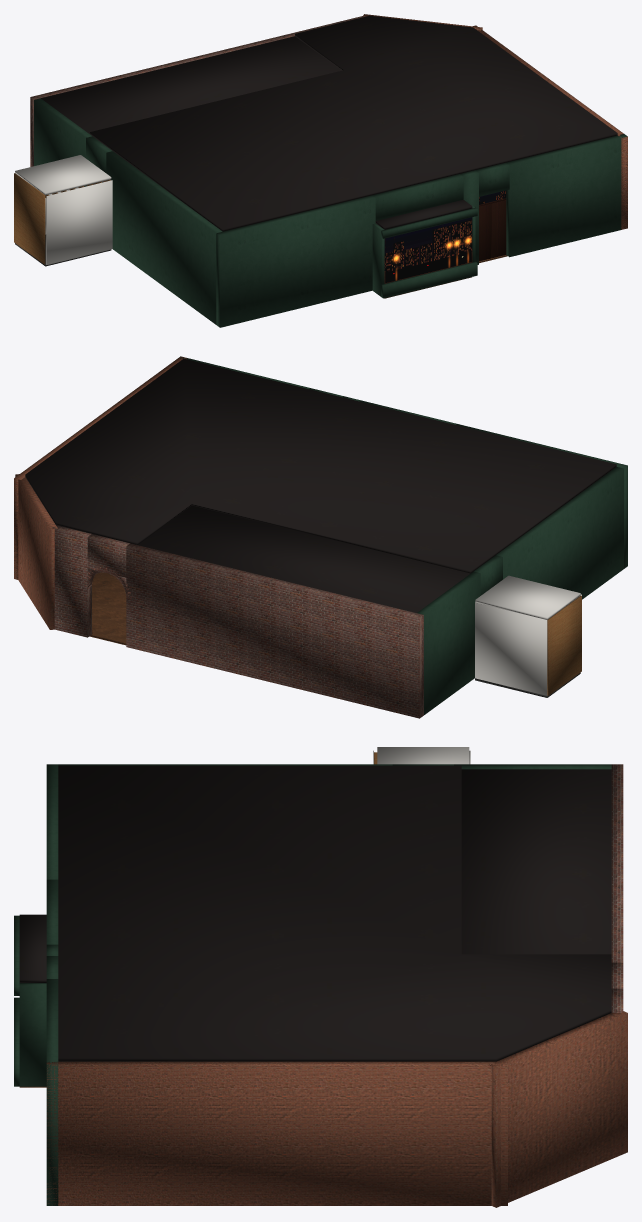
File: hall.glb
3 views of the same model, one above another, from view 1: azimuth 30°, elevation 25°; view 2: azimuth 150°, elevation 25°; view 3: azimuth 270°, elevation 25° (orthographic). The views are drawn at different scales.
Visible parts, largest first — view 1: Ceiling, Green plaster, Drywall, Bay glass, Pine studs, Door wood, Brick, Dark brick; view 2: Ceiling, Brick, Green plaster, Drywall, Dark brick, Pine studs, Floor; view 3: Ceiling, Dark brick, Green plaster, Brick, Drywall.
Part boxes in pixels (x1,y1,x2,y2): Ceiling: (41,15,617,231); Green plaster: (34,98,627,327); Drywall: (15,155,112,264); Bay glass: (384,217,472,282); Pine studs: (14,173,110,264); Door wood: (385,198,506,267); Brick: (30,15,366,166); Dark brick: (363,14,627,229); Ceiling: (25,358,616,612); Brick: (52,525,423,718); Green plaster: (179,356,627,714); Drywall: (475,575,581,695); Dark brick: (14,356,187,629); Pine studs: (547,596,581,695); Floor: (89,572,126,645); Ceiling: (19,765,611,1061); Dark brick: (46,1010,627,1207); Green plaster: (14,764,611,1205); Brick: (611,764,623,1012); Drywall: (373,747,470,764).
Size of the model in its own units: 21.77 by 4.2 by 15.97.
24 materials, 17 textured.
